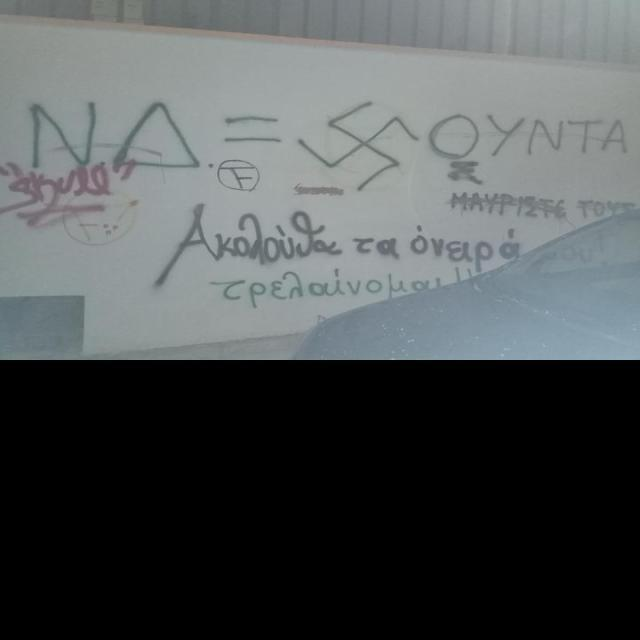nonspitting: (28, 96, 630, 192), (148, 202, 516, 306), (0, 153, 143, 225), (446, 190, 640, 223), (294, 182, 348, 196)
